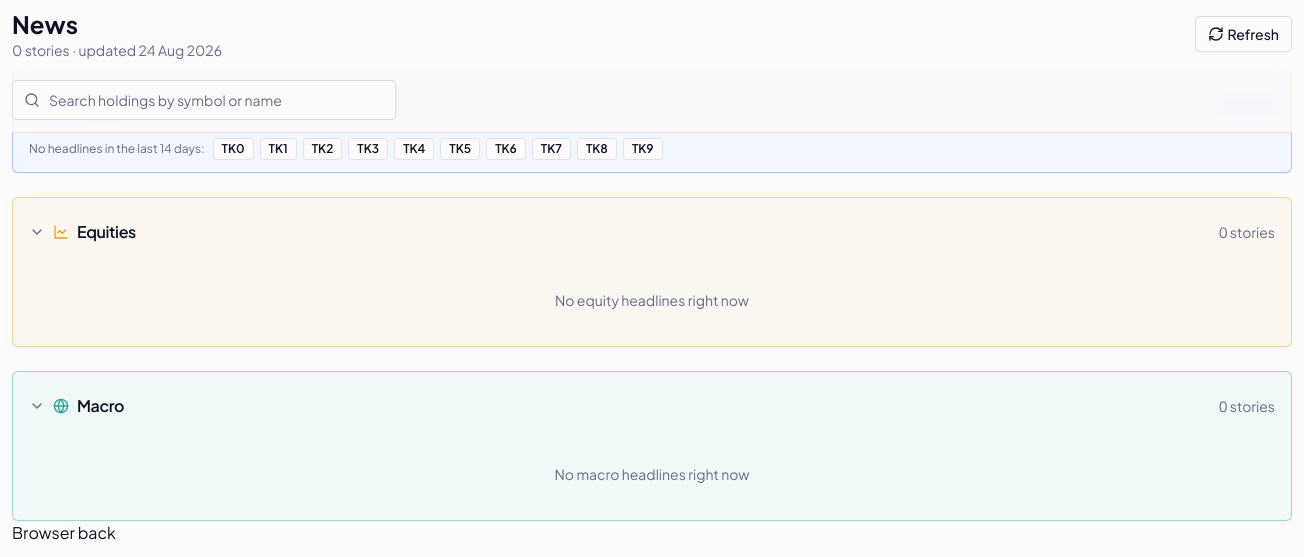
News page › holding search › caps the list at eight matches
This screenshot has width=1304, height=557.
In the dropdown named "Search your holdings": (204, 100) [12,80,396,120], type "tk"
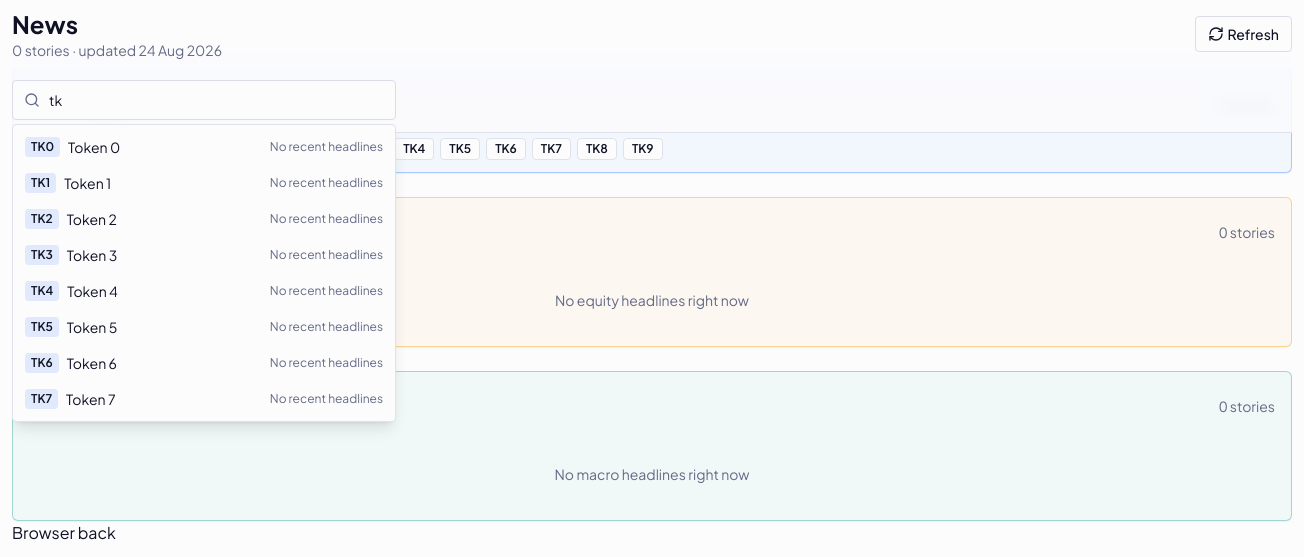
Expected: the number of options is 8
